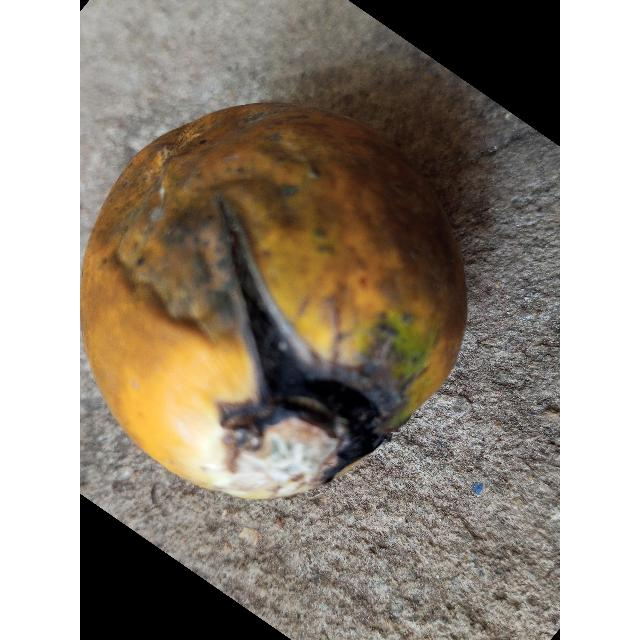damaged: (81, 104, 466, 499)
